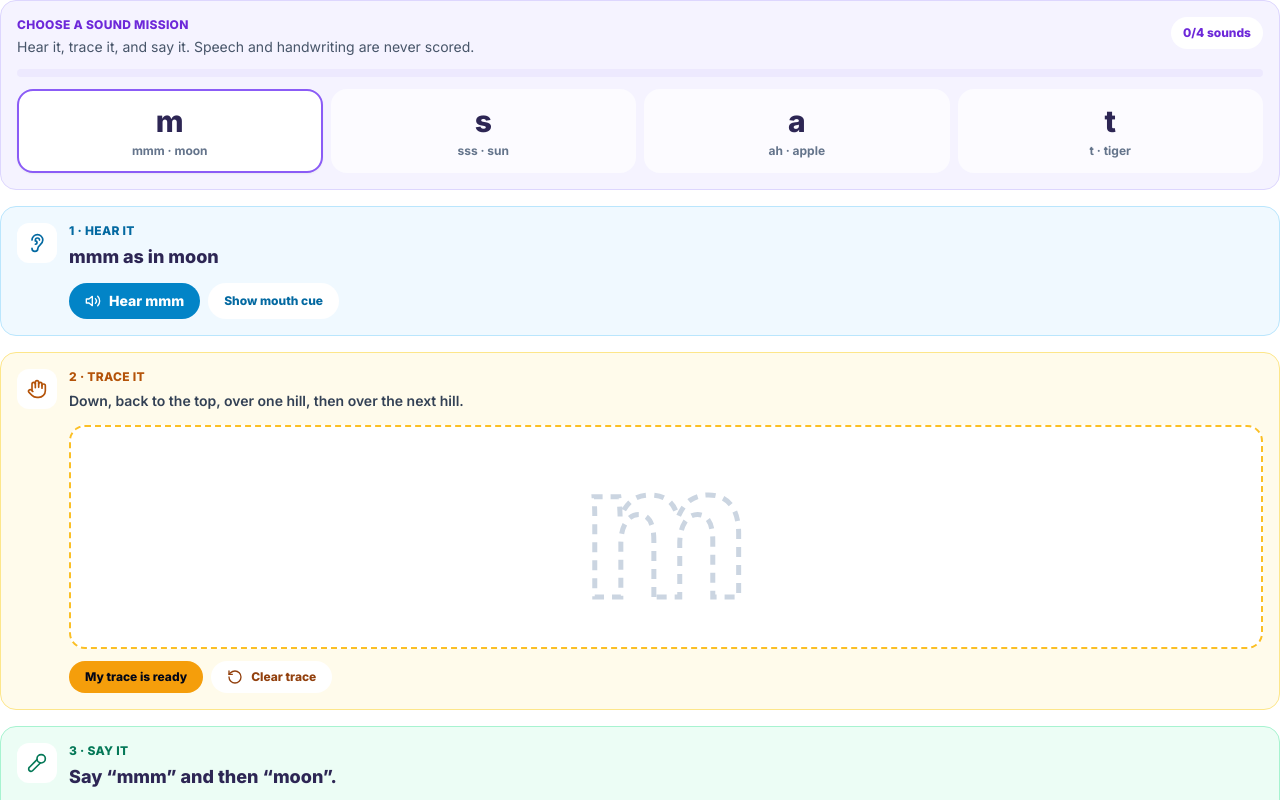
Test: DyslexiaPhonicsTraceActivity › keeps a sound mission locked until all three steps are checked
Click the button "Hear mmm" at (135, 301), box left=69, top=283, right=200, bottom=319
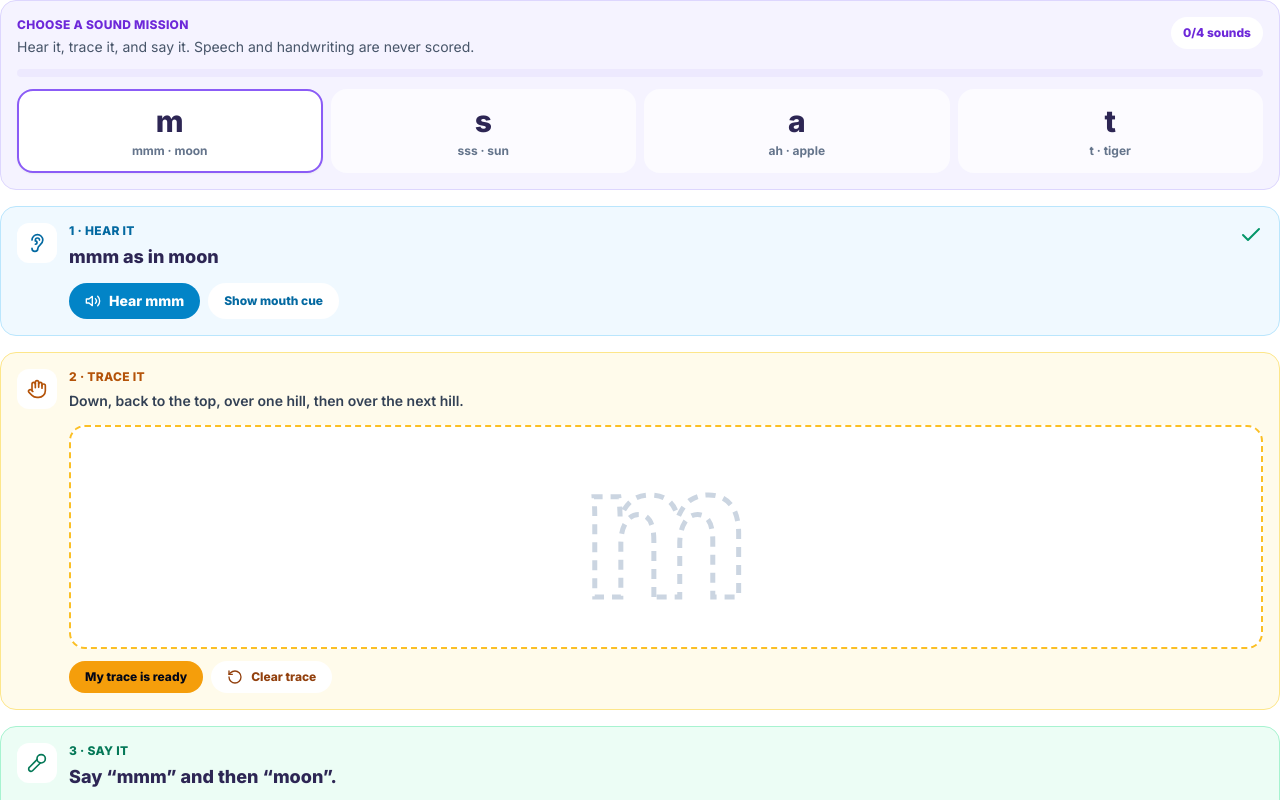
Click the button "My trace is ready" at (136, 677), box left=69, top=661, right=203, bottom=693
(page scrolled)
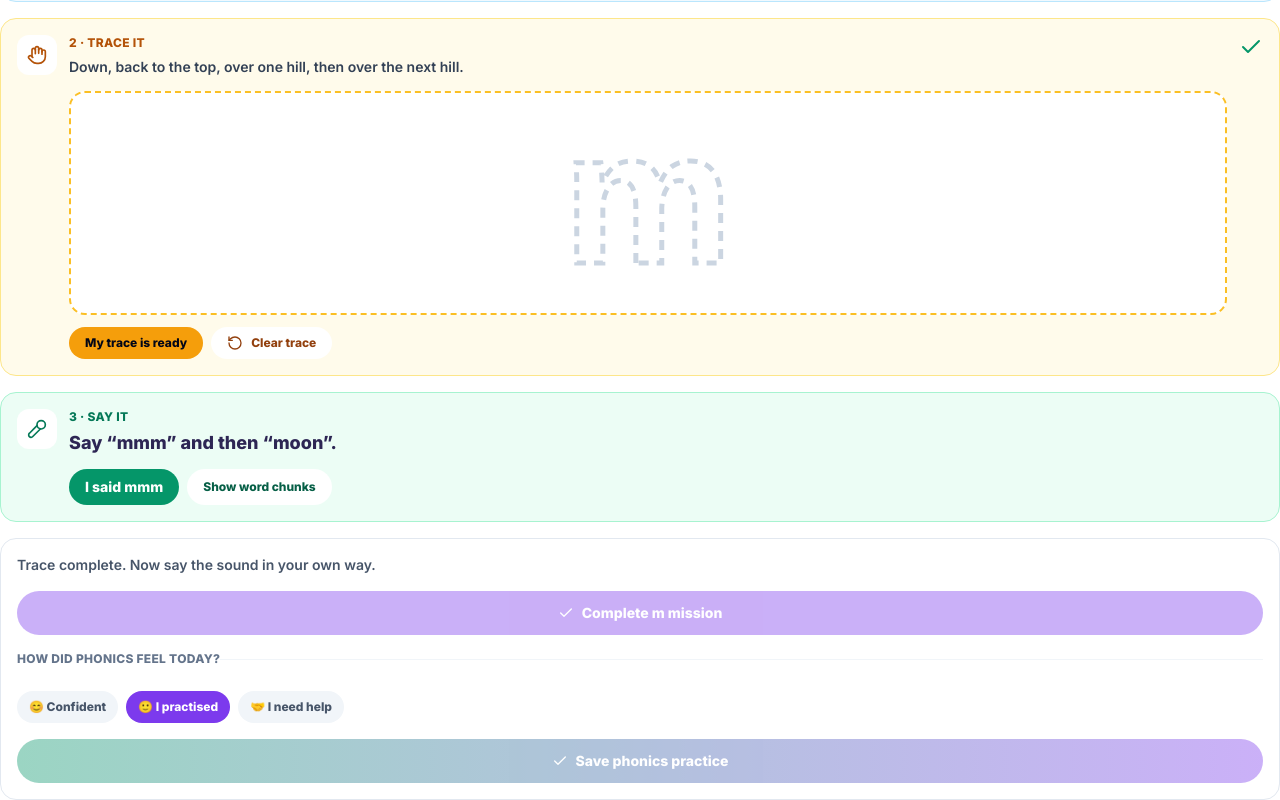
Expected: the button "Complete m mission" is disabled, left=17, top=591, right=1263, bottom=635
Click the button "I said mmm" at (124, 487), box left=69, top=469, right=179, bottom=505
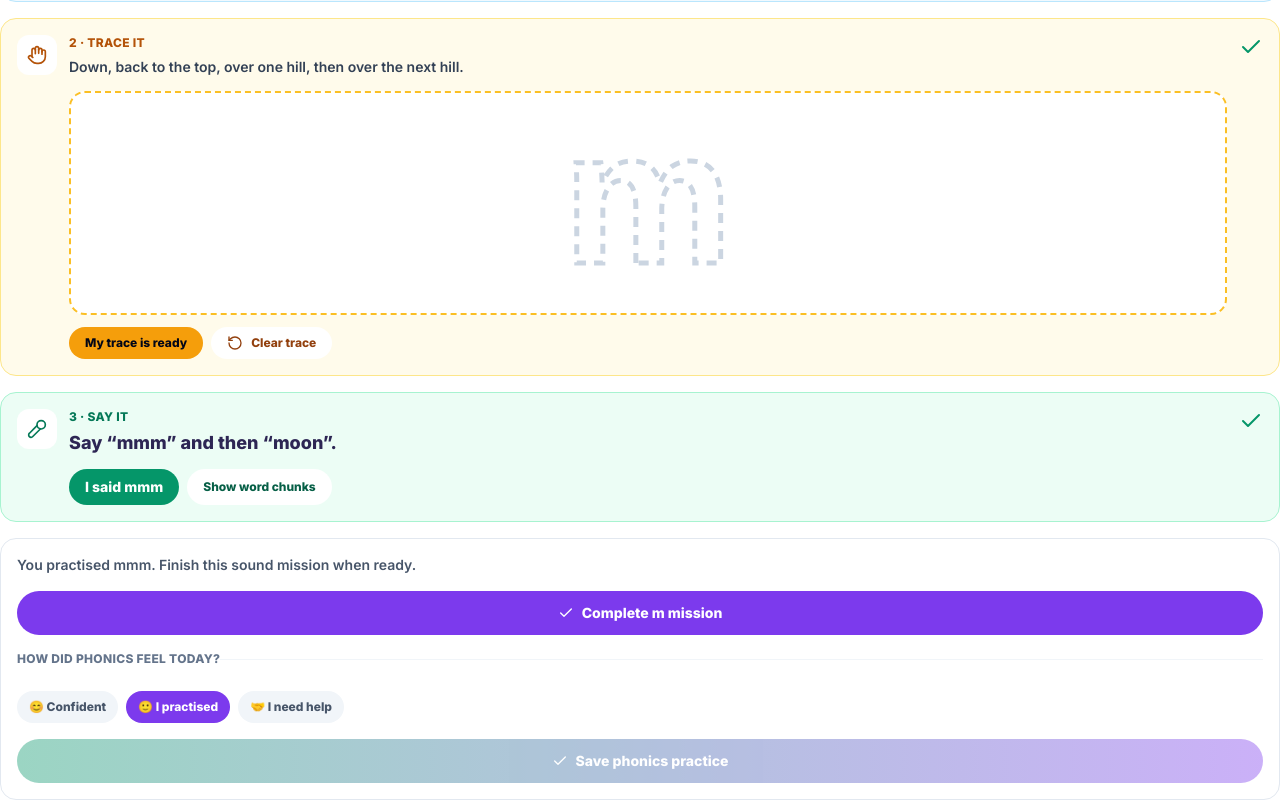
Expected: the button "Complete m mission" is enabled, left=17, top=591, right=1263, bottom=635
